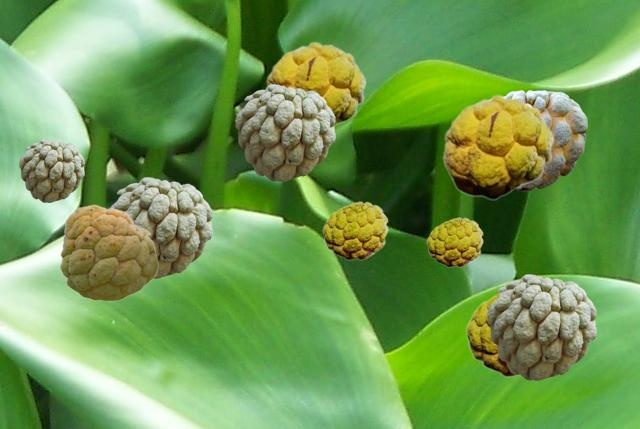atis: (442, 94, 553, 199), (487, 274, 595, 379), (108, 177, 211, 277), (235, 84, 334, 180), (59, 204, 157, 300), (265, 41, 365, 126), (505, 90, 586, 190), (465, 293, 520, 376), (19, 139, 83, 201), (322, 201, 387, 259), (426, 217, 482, 266)
